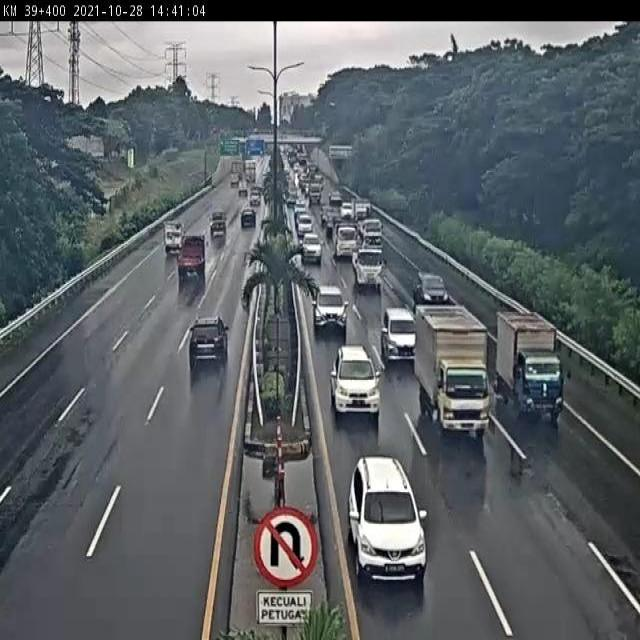car: (349, 455, 427, 585), (329, 344, 380, 417), (380, 304, 420, 365), (188, 316, 229, 364), (312, 284, 349, 333), (413, 269, 450, 304)
mid truck: (415, 304, 490, 441), (351, 244, 384, 291), (175, 231, 208, 276)
small truck: (496, 308, 563, 419)
